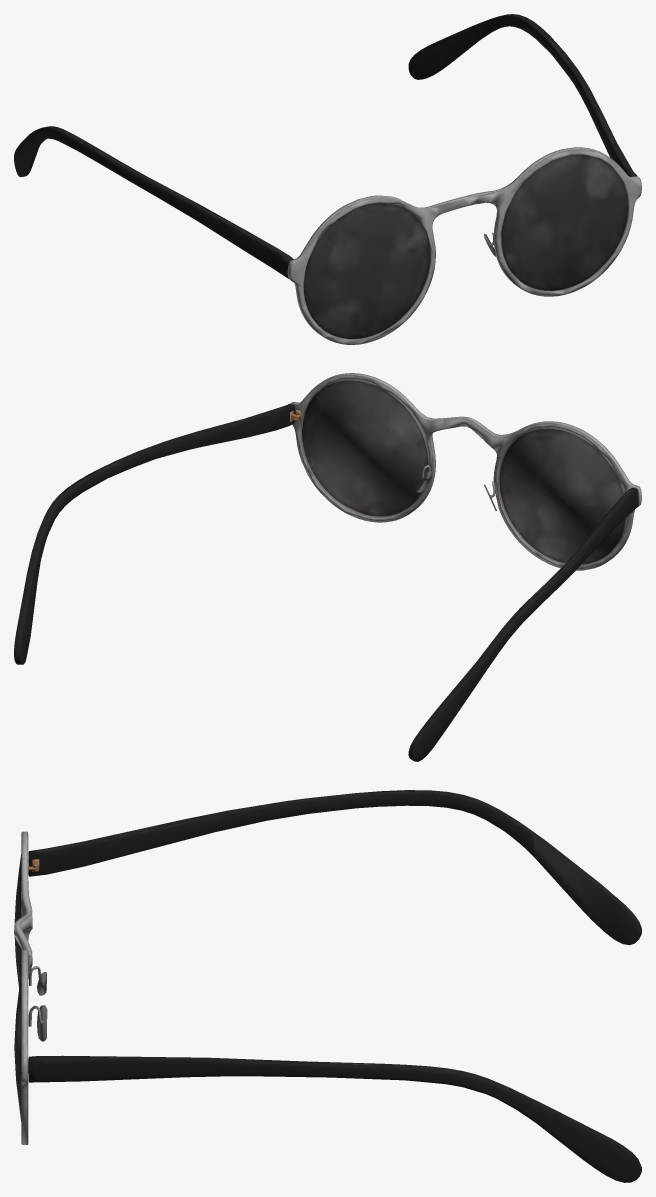
File: glasses.gltf
3 views of the same model, one above another, from view 1: azimuth 30°, elevation 25°; view 2: azimuth 150°, elevation 25°; view 3: azimuth 270°, elevation 25° (orthographic). The views are drawn at different scales.
Visible parts, largest first — view 1: glasses; view 2: glasses; view 3: glasses.
Part boxes in pixels (x1,y1,x2,y2): glasses: (14, 14, 641, 344); glasses: (14, 373, 641, 761); glasses: (14, 790, 641, 1182).
Bounding box in the file's own units: 0.1578 × 0.0463 × 0.149.
Materials: 2 (2 with a texture image).
